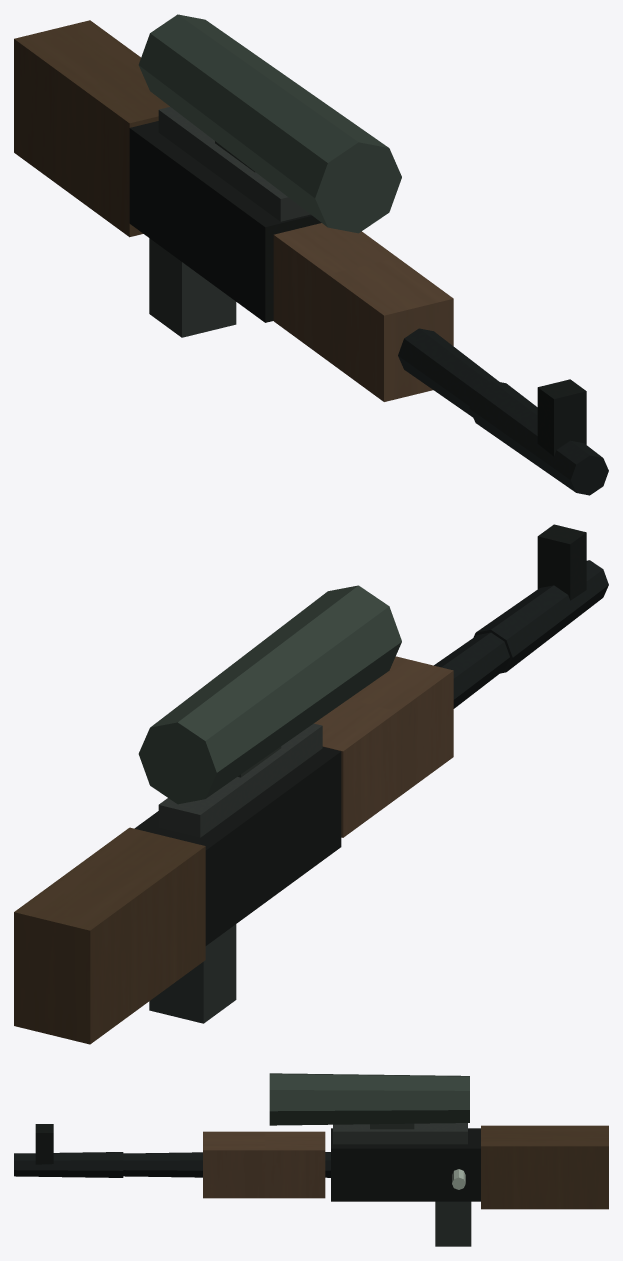
File: bolt.glb
3 renders of one model, top to bottom at view 1: azimuth 30°, elevation 25°; view 2: azimuth 150°, elevation 25°; view 3: azimuth 270°, elevation 25°, orthographic. The views are drawn at different scales.
Visible parts, largest first — view 1: Bolt Rifle; view 2: Bolt Rifle; view 3: Bolt Rifle.
Part boxes in pixels (<box>): Bolt Rifle: <box>14,14,608,495</box>; Bolt Rifle: <box>14,524,608,1044</box>; Bolt Rifle: <box>14,1073,608,1246</box>.
Size of the model in its own units: 0.156 by 0.393 by 1.28.
3 materials, 2 textured.
